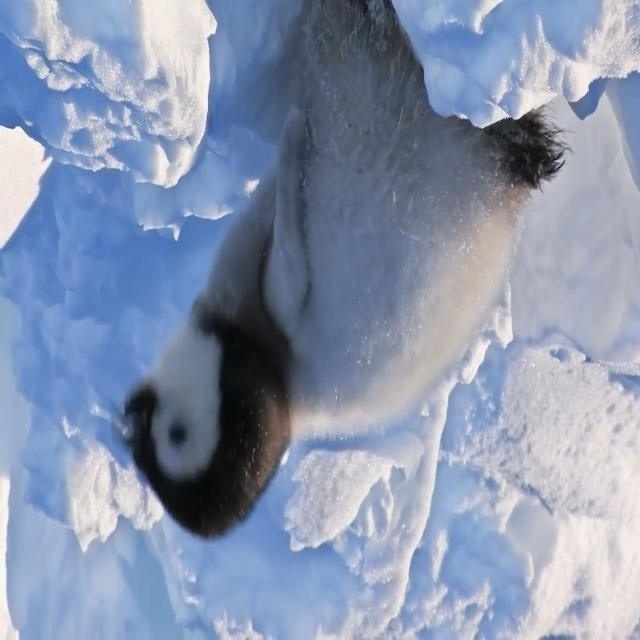penguin: (124, 4, 572, 541)
